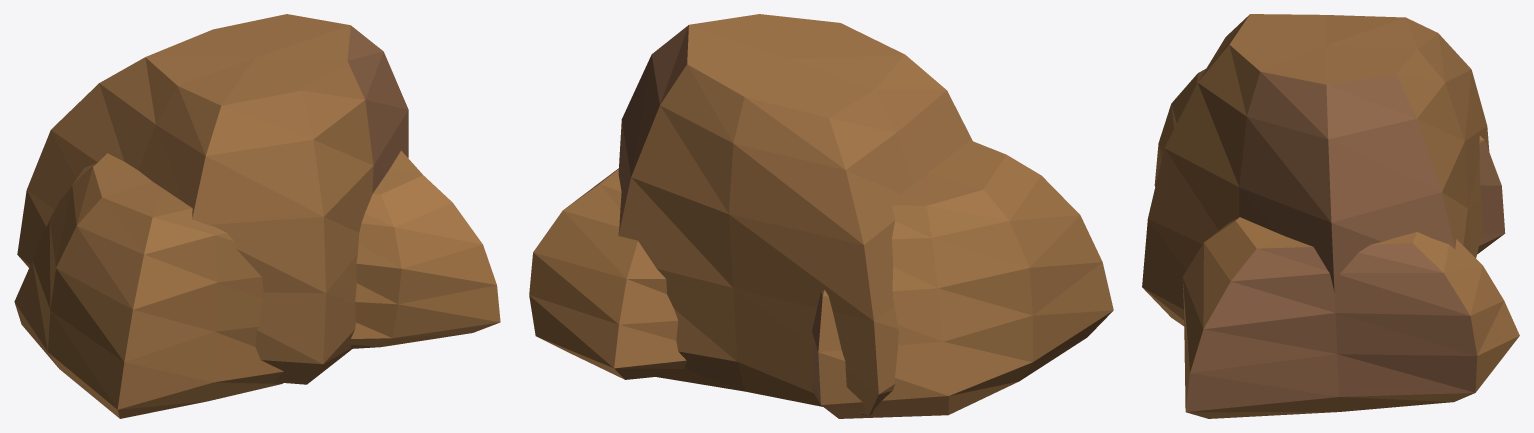
Rendered from rock_boulder_a.glb.
3 views of the same model, side by side, from view 1: azimuth 30°, elevation 25°; view 2: azimuth 150°, elevation 25°; view 3: azimuth 270°, elevation 25° (orthographic). The views are drawn at different scales.
Parts seen in each view (by area): view 1: rock_boulder_a_LOD0_stone; view 2: rock_boulder_a_LOD0_stone; view 3: rock_boulder_a_LOD0_stone.
Boxes of the visible parts, <box> form: rock_boulder_a_LOD0_stone: <box>14,14,500,418</box>; rock_boulder_a_LOD0_stone: <box>529,14,1113,418</box>; rock_boulder_a_LOD0_stone: <box>1142,14,1519,418</box>.
Size of the model in its own units: 3.38 by 2.3 by 2.63.
